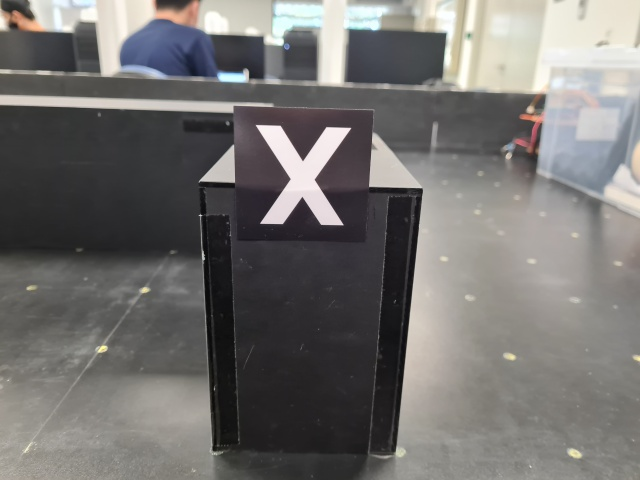alphabet_x: (231, 104, 373, 242)
